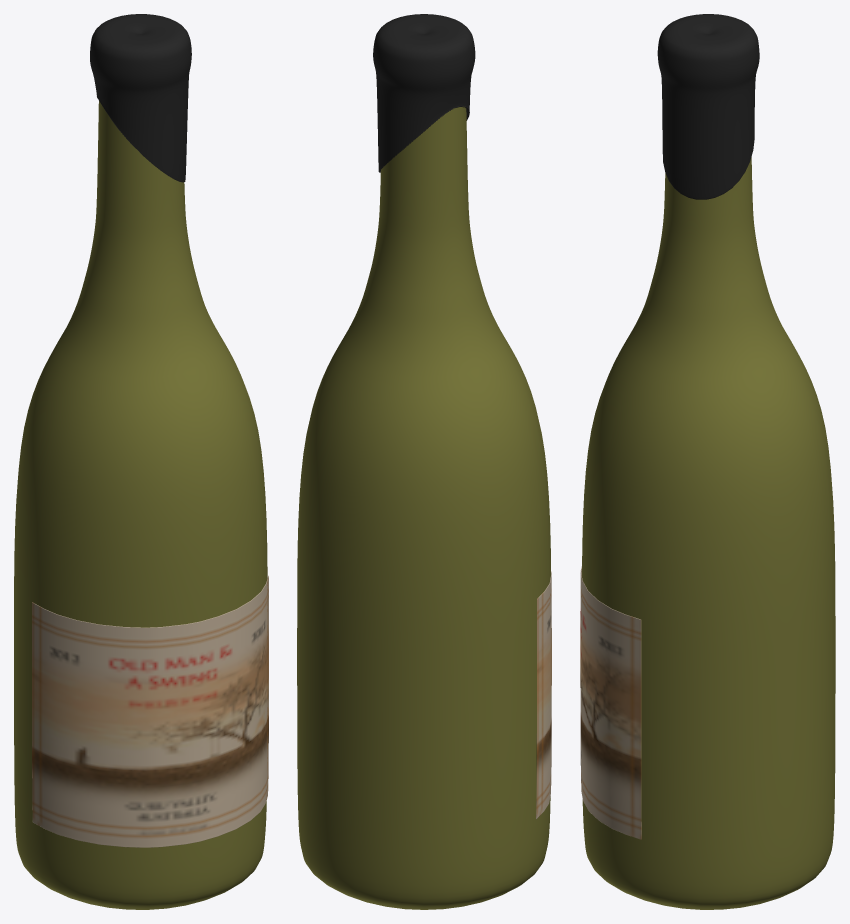
The model's file is bottle.glb.
The picture shows the model from 3 angles, left to right: view 1: azimuth 30°, elevation 25°; view 2: azimuth 150°, elevation 25°; view 3: azimuth 270°, elevation 25°; orthographic projection.
Visible parts, largest first — view 1: WineBottles001_02; view 2: WineBottles001_02; view 3: WineBottles001_02.
Part boxes in pixels (bbox=[...]): WineBottles001_02: bbox=[14, 14, 268, 909]; WineBottles001_02: bbox=[297, 14, 551, 909]; WineBottles001_02: bbox=[580, 14, 835, 909].
Size of the model in its own units: 0.0825 by 0.3006 by 0.0825.
1 material, 1 textured.
